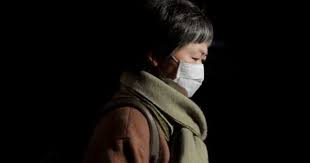mask: (149, 40, 206, 97)
